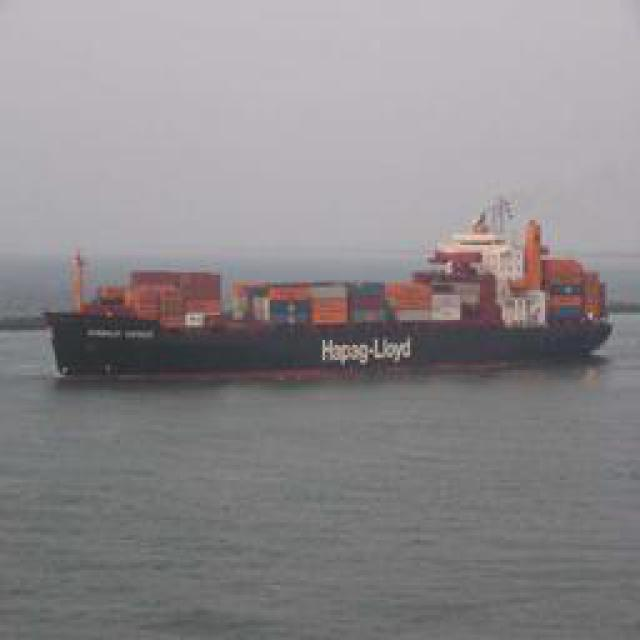Ship: (26, 205, 624, 383)
